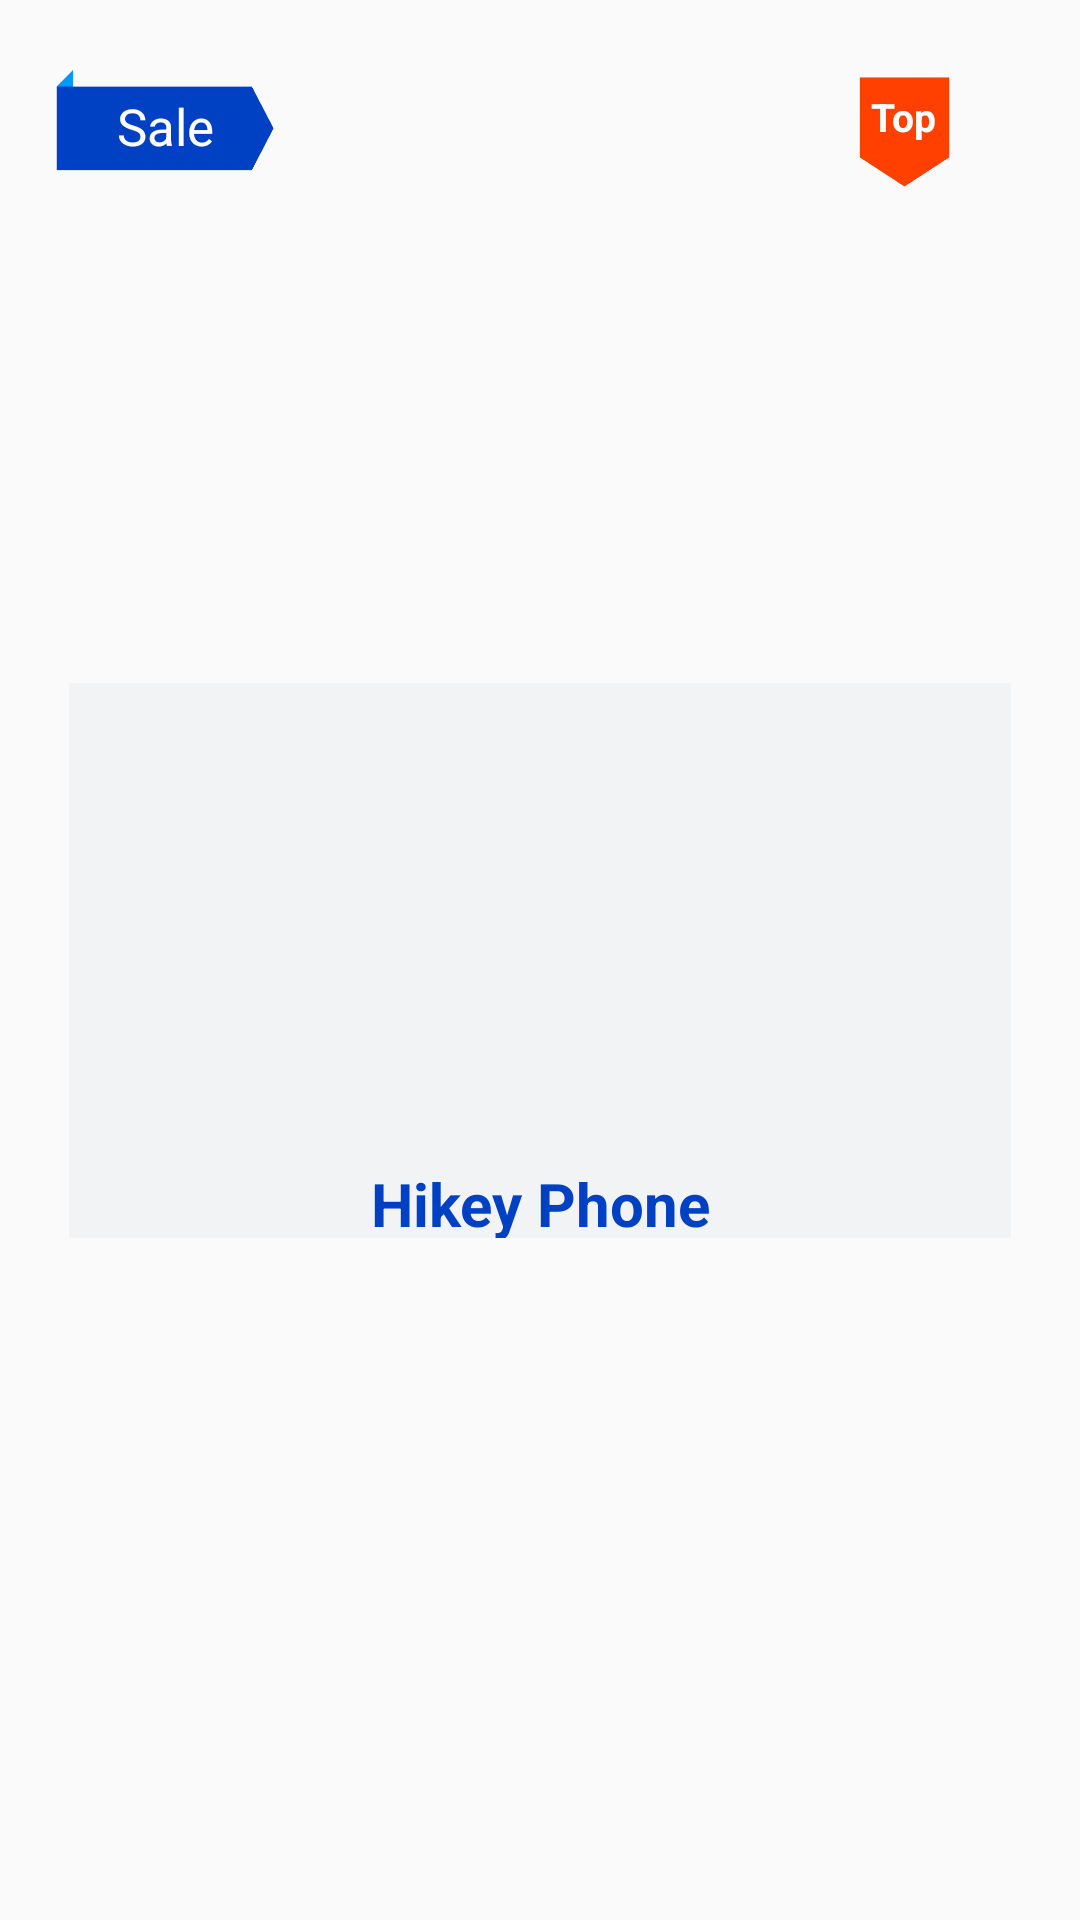

Where to tap for icons on this 1080x1920 app screen, as [x,y]:
tmlabel: [165,120], [904,132]
